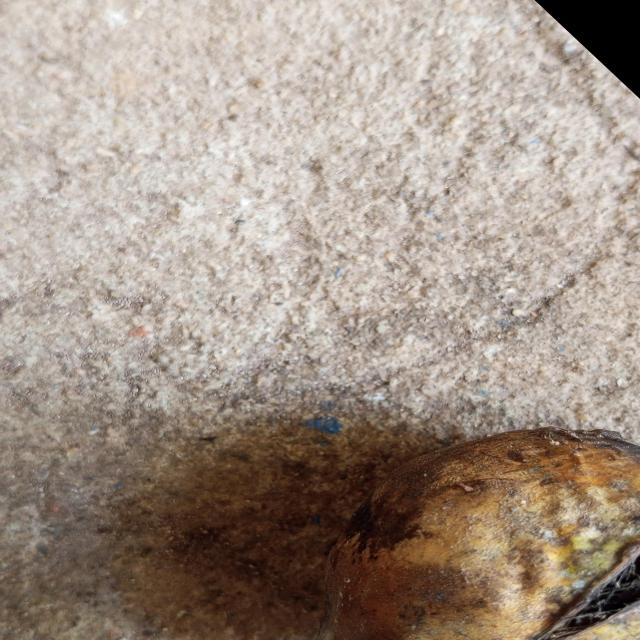damaged: (322, 429, 640, 640)
